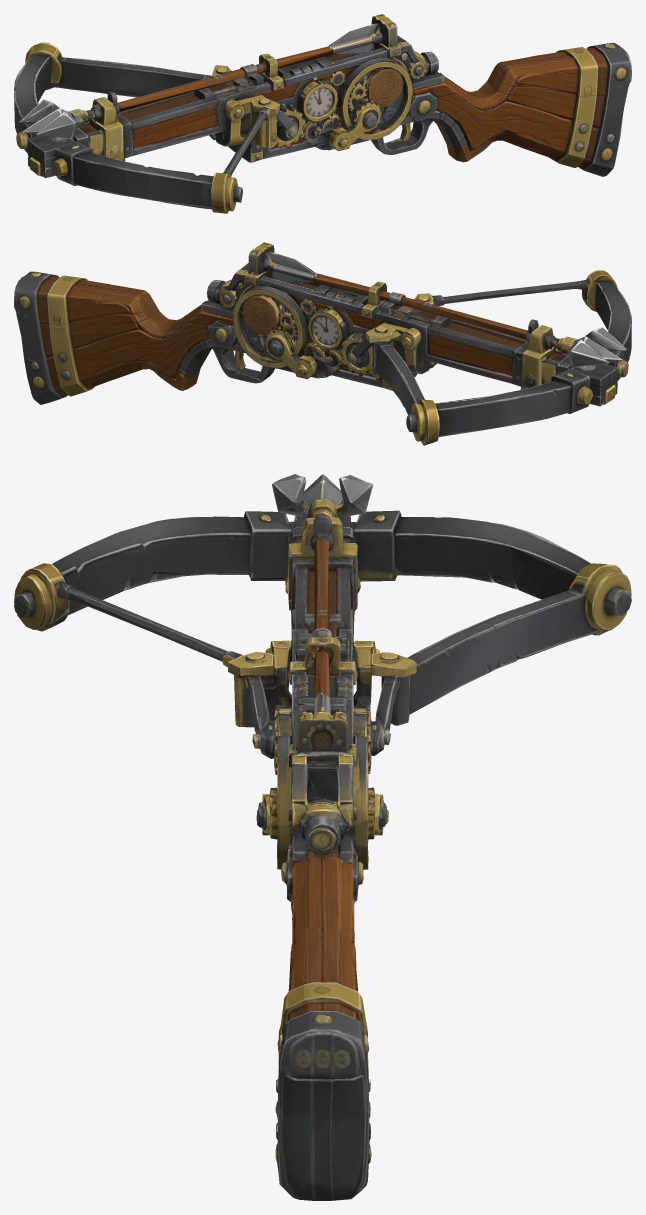
The model's file is weapon_crossbow.glb.
3 renders of one model, top to bottom at view 1: azimuth 30°, elevation 25°; view 2: azimuth 150°, elevation 25°; view 3: azimuth 270°, elevation 25°, orthographic. The views are drawn at different scales.
Parts seen in each view (by area): view 1: output_unwrapped; view 2: output_unwrapped; view 3: output_unwrapped.
Part boxes in pixels (x1,y1,x2,y2): output_unwrapped: (14,14,631,213); output_unwrapped: (14,242,631,445); output_unwrapped: (14,474,631,1200).
Size of the model in its own units: 1.9 by 0.6184 by 1.07.
1 material, 1 textured.
